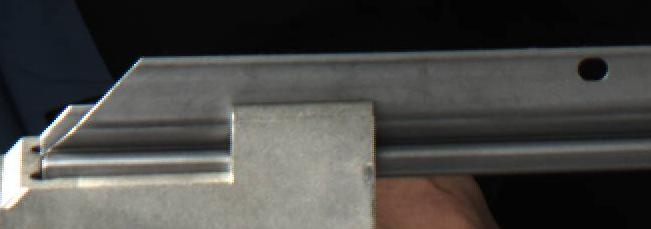cut: (33, 49, 210, 180)
holes: (575, 55, 610, 82)
